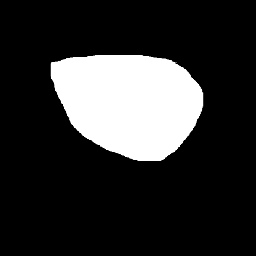mass: (49, 41, 196, 163)
